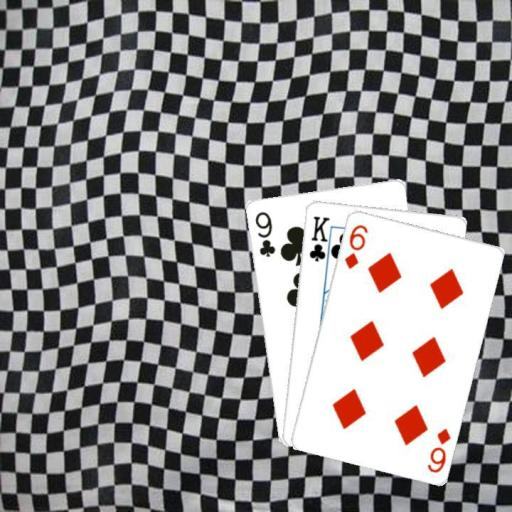6D: (341, 221, 369, 271), (424, 425, 452, 475)
9C: (251, 208, 277, 259)
KC: (306, 213, 334, 269)
